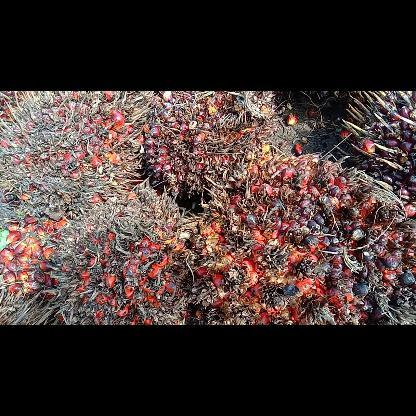Terlalu masak: (185, 146, 415, 324), (41, 180, 204, 324), (0, 91, 145, 222), (138, 90, 284, 200), (333, 91, 415, 205)
